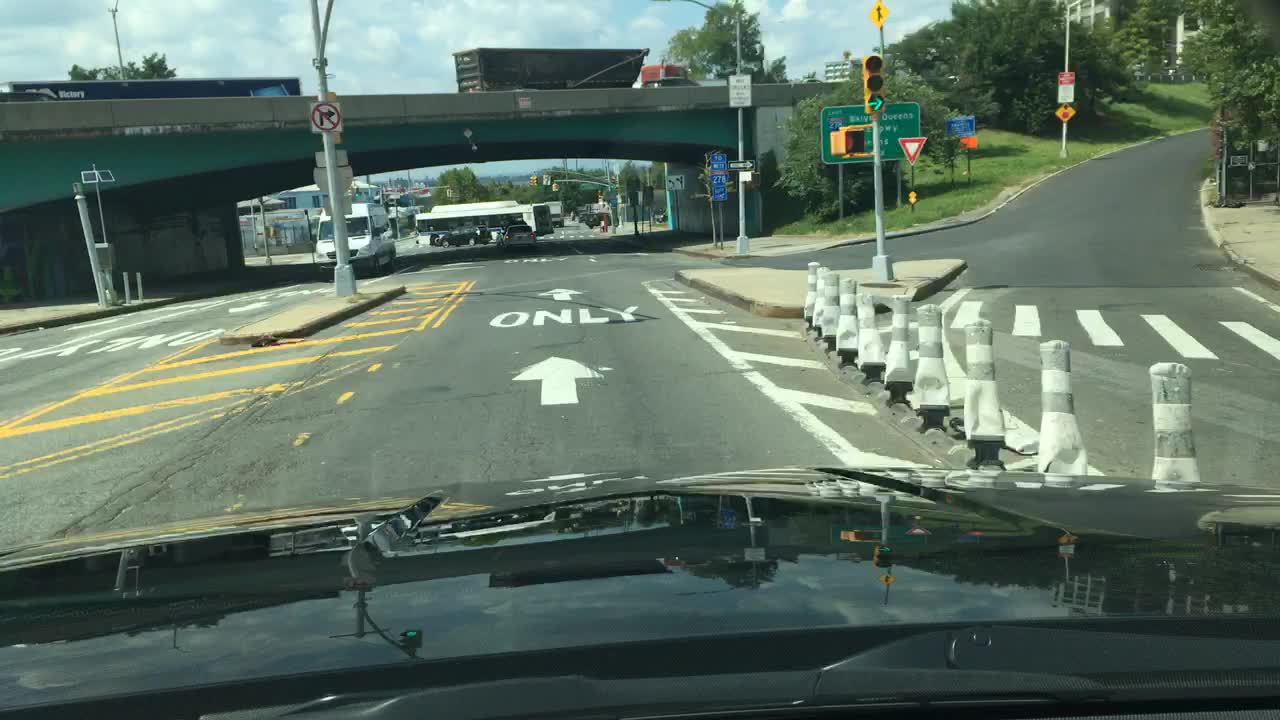bus: (0, 77, 301, 102), (414, 201, 555, 246)
car: (313, 203, 397, 283), (439, 225, 492, 248), (503, 225, 537, 249), (583, 211, 620, 228), (491, 227, 504, 240), (572, 209, 586, 220), (655, 210, 667, 222), (577, 212, 591, 222), (803, 78, 823, 82)
traffic light: (863, 56, 885, 115), (829, 129, 868, 156), (528, 174, 534, 186), (353, 188, 359, 199), (534, 174, 539, 186), (554, 184, 560, 192), (447, 189, 452, 197), (553, 184, 557, 193)
traffic sign: (819, 103, 921, 163), (312, 166, 354, 193), (310, 103, 343, 133), (898, 138, 927, 164), (728, 77, 752, 107), (942, 118, 974, 138), (868, 2, 892, 26), (323, 197, 353, 215), (1057, 72, 1074, 103), (313, 153, 349, 166), (728, 159, 755, 171), (710, 153, 727, 172), (1055, 105, 1075, 121), (665, 175, 686, 189), (710, 185, 727, 202), (960, 136, 977, 148), (711, 176, 728, 187), (327, 134, 342, 145), (321, 92, 338, 101), (738, 172, 753, 182), (580, 183, 598, 190), (520, 98, 531, 109), (908, 191, 917, 203), (542, 175, 551, 185), (463, 129, 472, 138), (609, 192, 616, 200), (611, 201, 617, 207)
truck: (452, 48, 699, 90), (544, 201, 564, 227)
